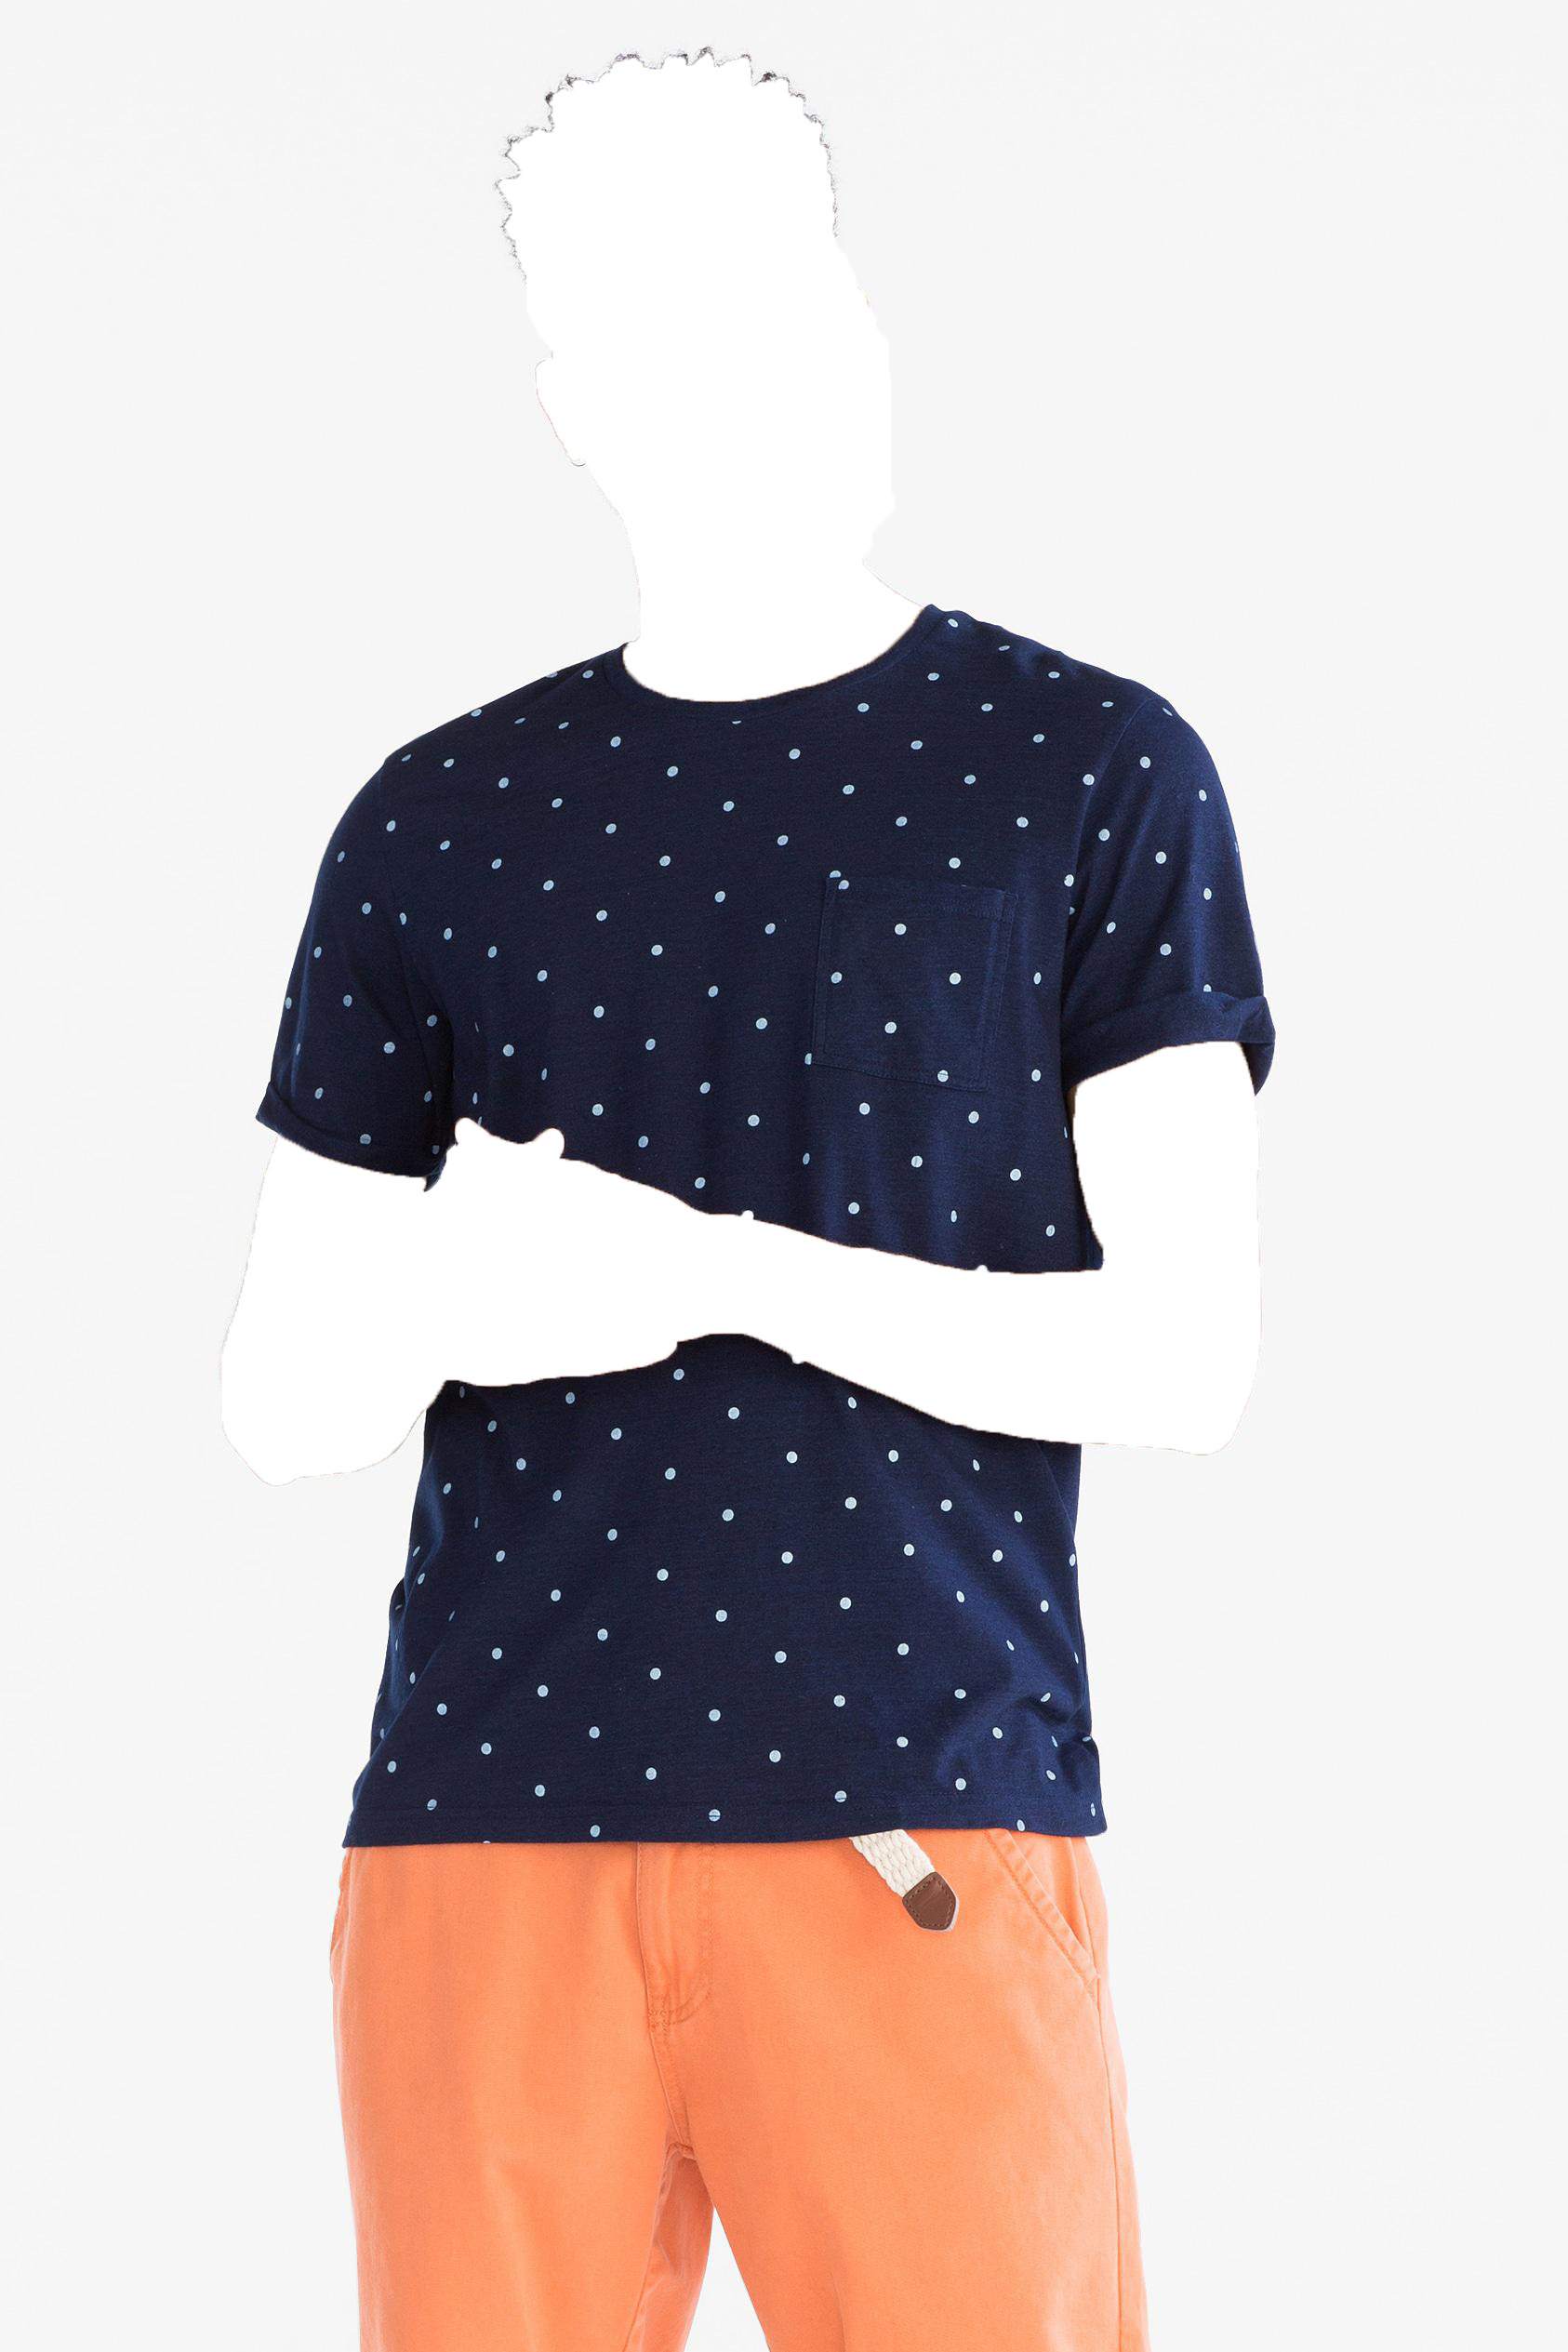teeshirt: (217, 611, 1290, 1855)
